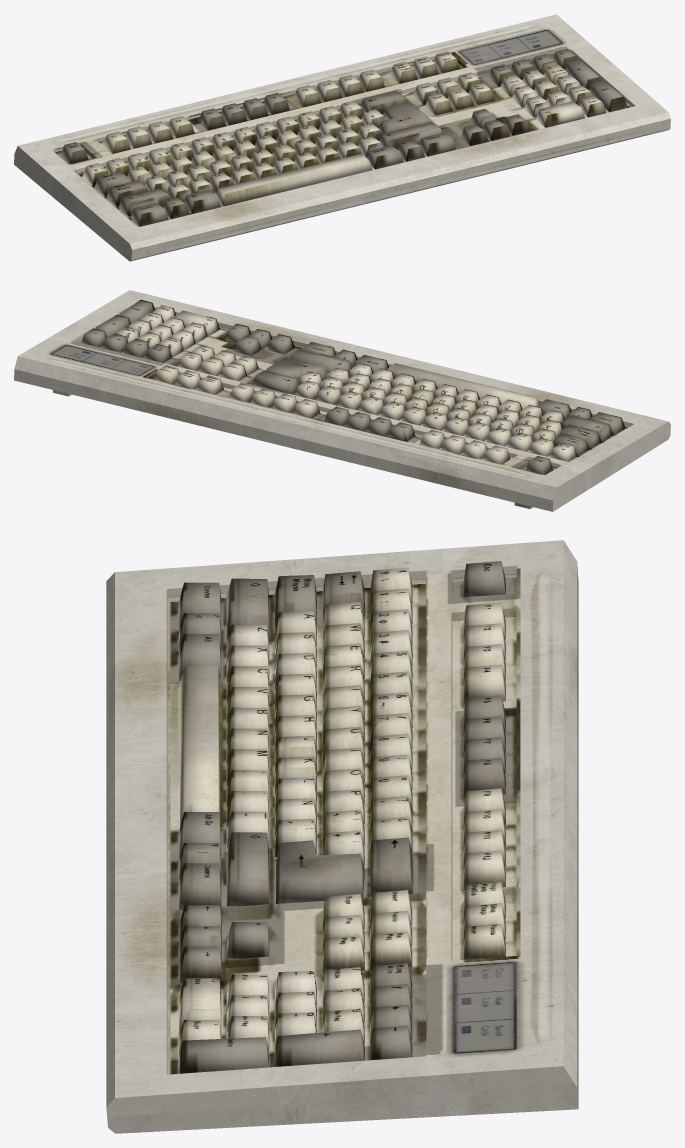
Rendered from keyboard.glb.
The picture shows the model from 3 angles, top to bottom: view 1: azimuth 30°, elevation 25°; view 2: azimuth 150°, elevation 25°; view 3: azimuth 270°, elevation 25°; orthographic projection. The views are drawn at different scales.
Parts seen in each view (by area): view 1: keyboard; view 2: keyboard; view 3: keyboard.
Boxes of the visible parts, bbox=[...] form: keyboard: bbox=[14, 14, 670, 261]; keyboard: bbox=[14, 290, 670, 511]; keyboard: bbox=[106, 540, 578, 1133].
Bounding box in the file's own units: 0.624 × 0.0428 × 0.2368.
1 material, 1 textured.
